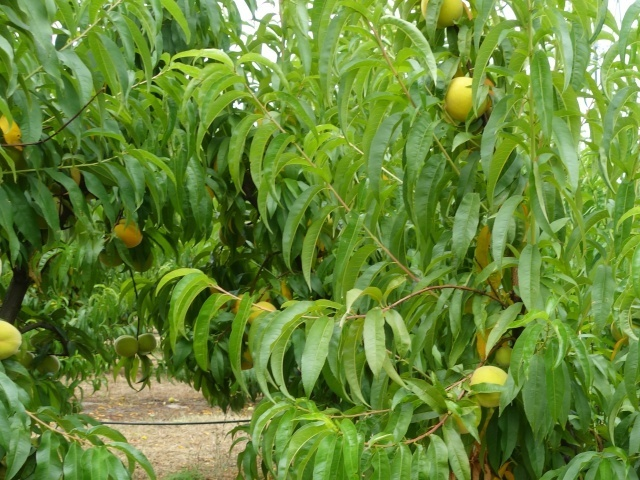peach: (439, 74, 495, 126), (468, 365, 515, 411), (446, 398, 486, 437), (415, 1, 470, 27), (107, 214, 146, 249), (1, 315, 26, 363), (246, 297, 279, 325), (110, 332, 140, 361), (37, 351, 64, 382), (135, 329, 159, 356), (492, 344, 515, 366)
